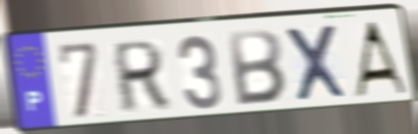3: (176, 33, 224, 112)
7: (55, 39, 102, 122)
A: (350, 18, 410, 99)
B: (226, 27, 288, 108)
R: (112, 37, 171, 116)
X: (281, 21, 351, 105)
